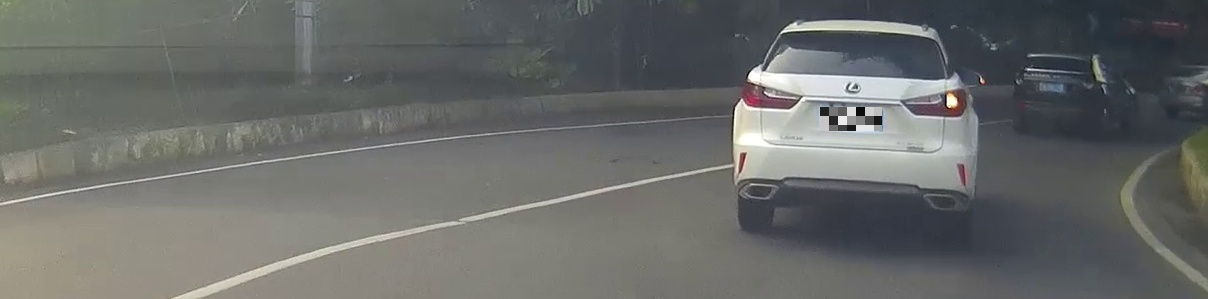L_light: (741, 79, 803, 109), (1015, 75, 1034, 86)
R_light: (902, 88, 967, 118), (1083, 78, 1106, 89)
T_light: (837, 31, 871, 39), (1050, 56, 1067, 62)
day-no: (1012, 51, 1108, 138)
day-right: (732, 20, 979, 249)
plate_1: (820, 107, 882, 131)
